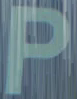Parking: (7, 5, 65, 94)
